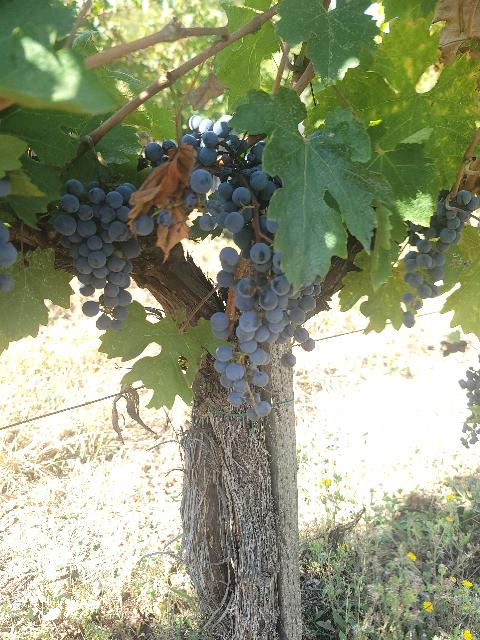grapes: (54, 179, 141, 332), (180, 115, 279, 249), (402, 190, 479, 328), (239, 242, 319, 351), (214, 339, 271, 421)
